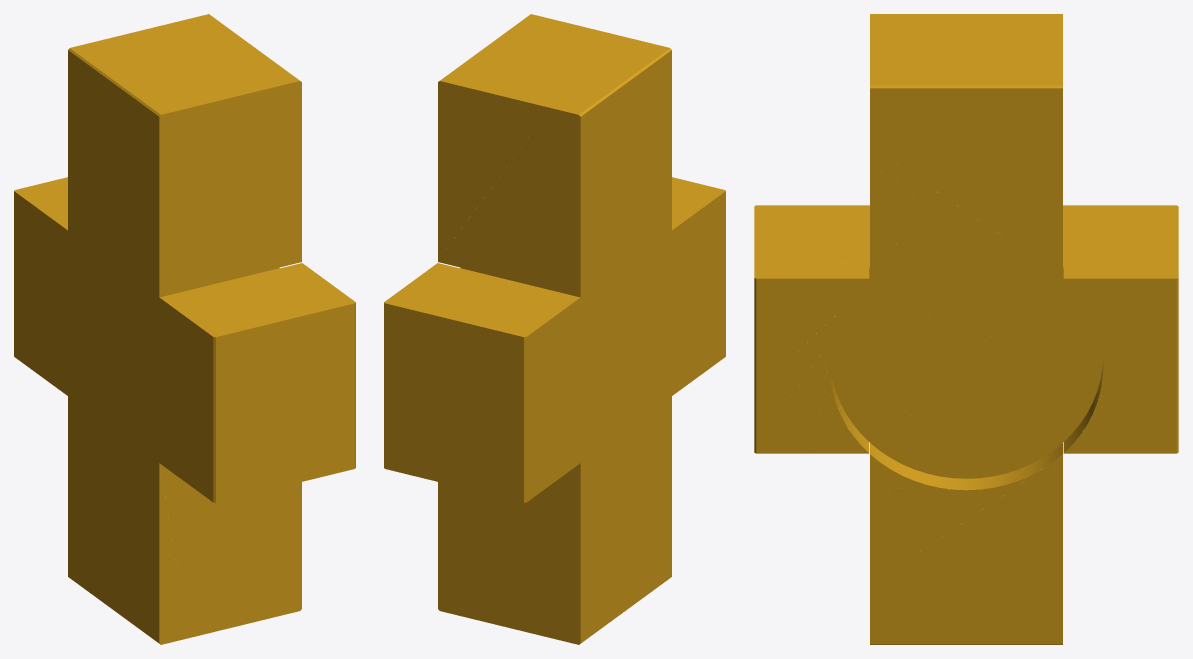
The model's file is takoz-krupp-hm-720-top-buffer-02.glb.
3 renders of one model, left to right at view 1: azimuth 30°, elevation 25°; view 2: azimuth 150°, elevation 25°; view 3: azimuth 270°, elevation 25°, orthographic. The views are drawn at different scales.
Visible parts, largest first — view 1: body; view 2: body; view 3: body.
Part boxes in pixels (x1=…): body: x1=14, y1=14, x2=355, y2=644; body: x1=384, y1=14, x2=725, y2=644; body: x1=754, y1=14, x2=1178, y2=644.
Bounding box in the file's own units: 0.09 × 0.32 × 0.22.
